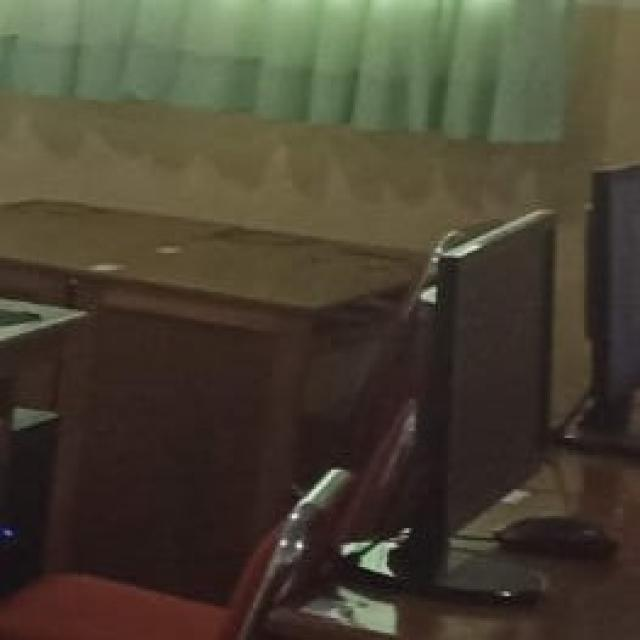offscreen: (450, 225, 552, 527)
